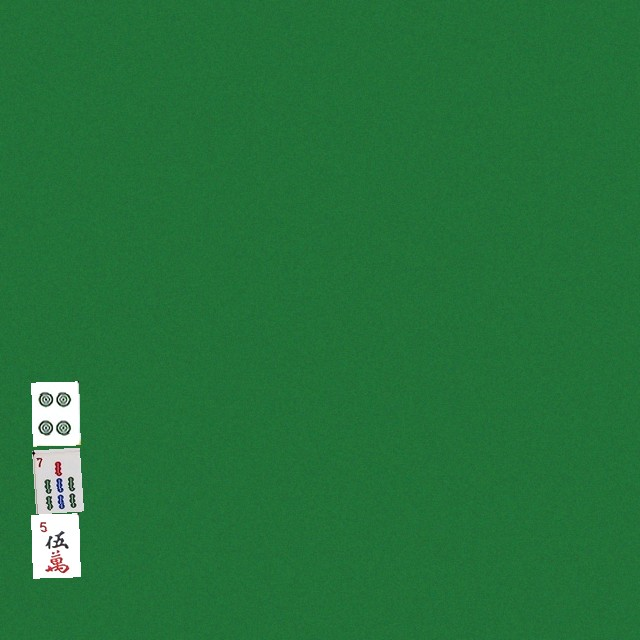tile: (31, 381, 79, 445), (31, 447, 79, 511), (31, 513, 79, 577)
